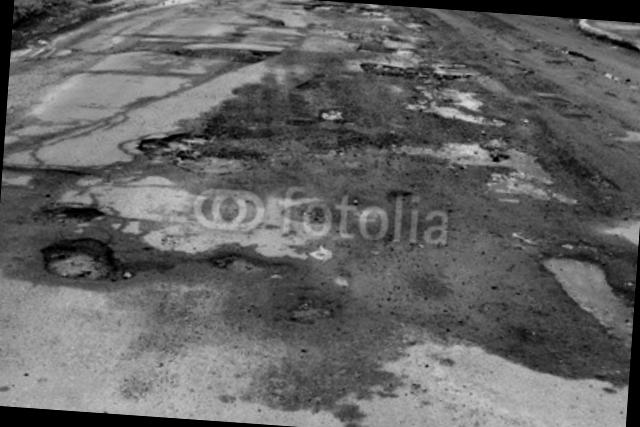Pothole: (311, 122, 590, 214), (136, 96, 272, 204), (203, 236, 341, 332), (520, 246, 638, 354), (354, 14, 479, 90), (30, 233, 144, 284), (172, 39, 302, 83), (299, 0, 391, 30), (46, 196, 111, 230)
